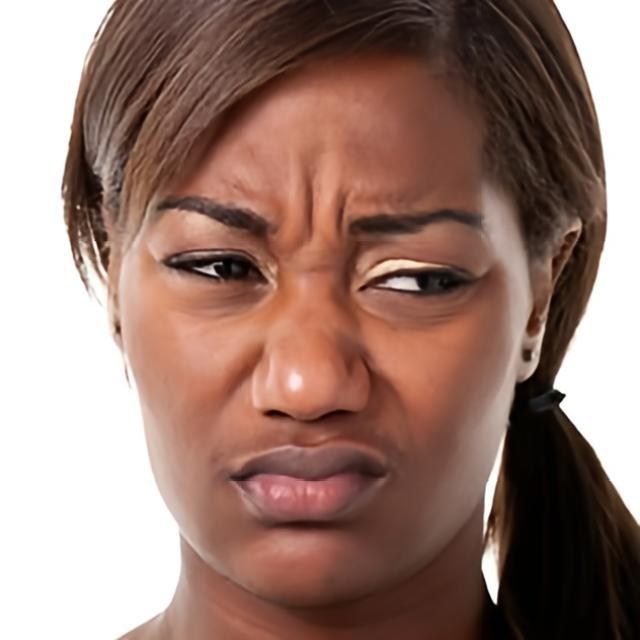disgust: (115, 40, 532, 606)
